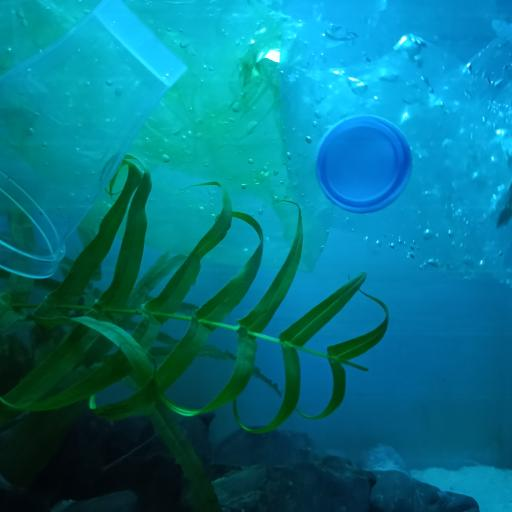bottle_cap: (316, 114, 412, 212)
plastic_bag: (0, 0, 291, 264), (275, 0, 512, 282)
plastic_cup: (2, 0, 187, 283)
